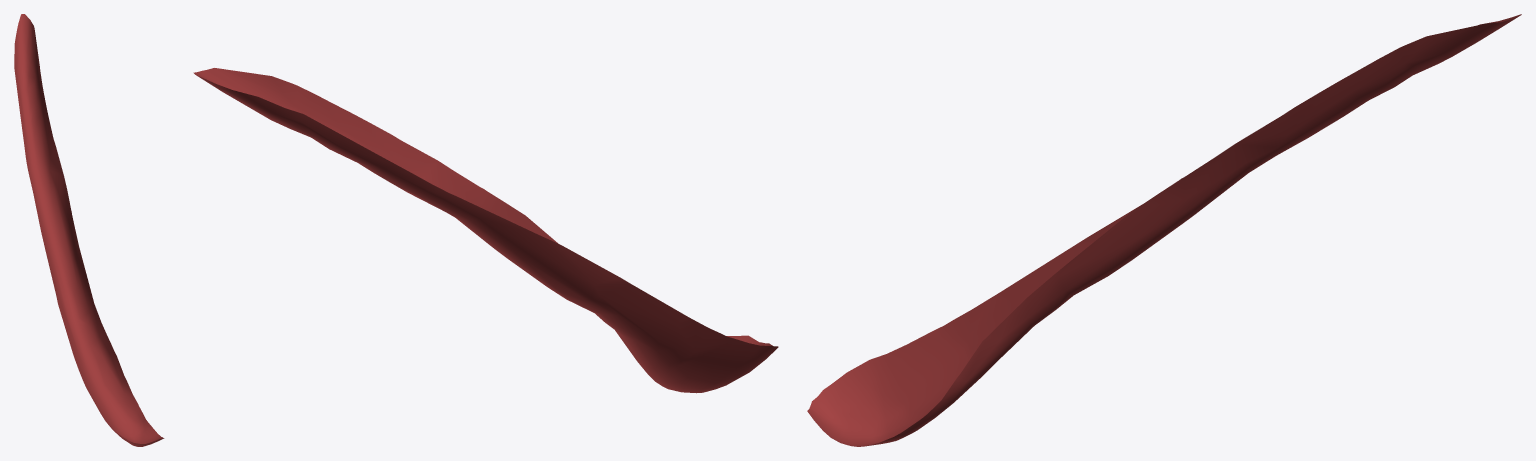
Rendered from internal-abdominal-oblique-muscle-o4r.glb.
The picture shows the model from 3 angles, left to right: view 1: azimuth 30°, elevation 25°; view 2: azimuth 150°, elevation 25°; view 3: azimuth 270°, elevation 25°; orthographic projection. The views are drawn at different scales.
Parts seen in each view (by area): view 1: Internal abdominal oblique muscle.o4r; view 2: Internal abdominal oblique muscle.o4r; view 3: Internal abdominal oblique muscle.o4r.
Boxes of the visible parts, <box> form: Internal abdominal oblique muscle.o4r: <box>14,14,164,446</box>; Internal abdominal oblique muscle.o4r: <box>193,68,778,393</box>; Internal abdominal oblique muscle.o4r: <box>807,14,1521,446</box>.
Bounding box in the file's own units: 0.0113 × 0.0282 × 0.0377.
